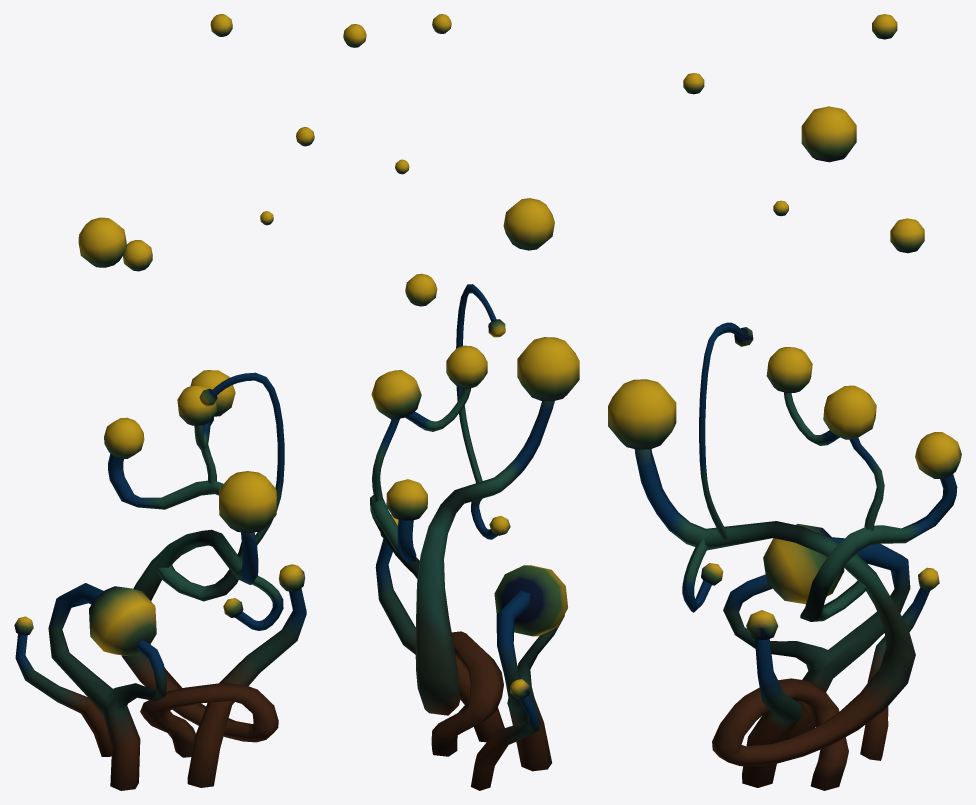
Rendered from Alien_Tree01.fbx.
3 renders of one model, left to right at view 1: azimuth 30°, elevation 25°; view 2: azimuth 150°, elevation 25°; view 3: azimuth 270°, elevation 25°, orthographic. The views are drawn at different scales.
Parts seen in each view (by area): view 1: Alien_Tree01; view 2: Alien_Tree01; view 3: Alien_Tree01.
Part boxes in pixels (x1,y1,x2,y2): Alien_Tree01: (14, 14, 314, 790); Alien_Tree01: (343, 14, 579, 790); Alien_Tree01: (608, 14, 961, 790).
Size of the model in its own units: 6229 by 18937 by 7511.
